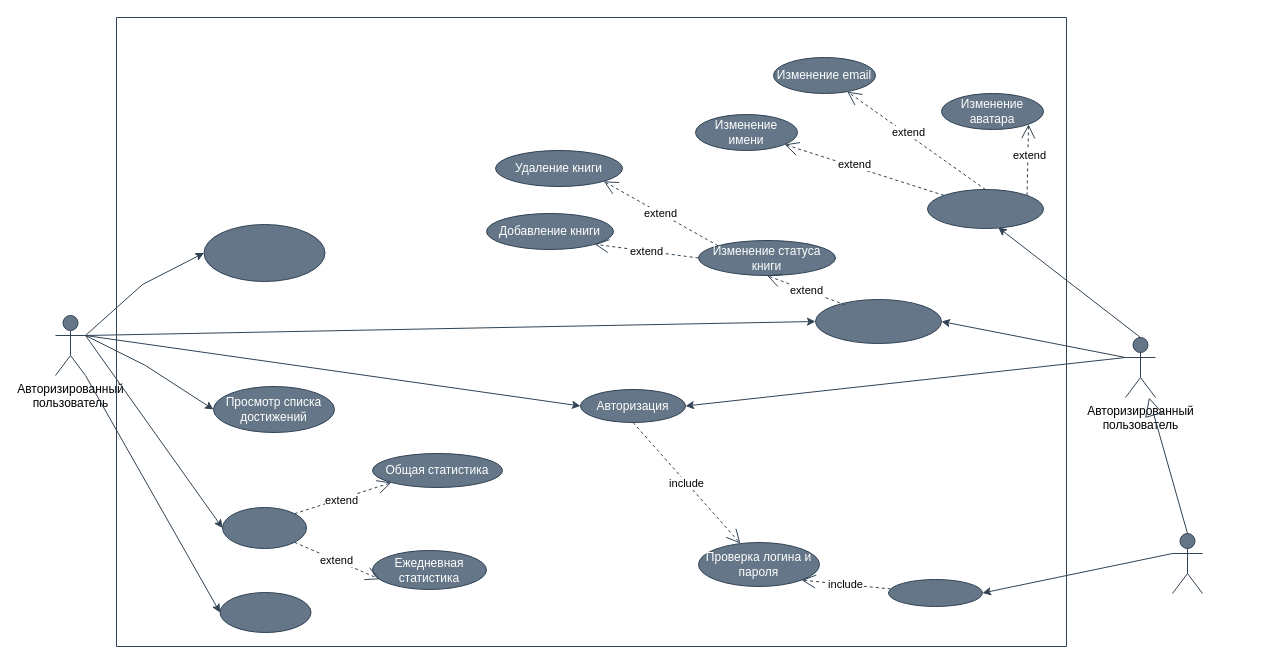
Image size: 1265x664. Some labels were removed from this diagram. Each missing label, with the centre of its shape:
"Добавление заметок" goes at point (265, 612).
"Неавторизированный пользователь" goes at point (1187, 563).
"Просмотр списка активных пользователей" goes at point (264, 253).
"Просмотр списка желаемых книг" goes at point (878, 321).
"Просмотр статистики" goes at point (264, 527).
"Регистрация" goes at point (935, 592).
"Редактирование профиля" goes at point (985, 208).
